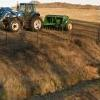Tractor: (3, 2, 77, 43)
